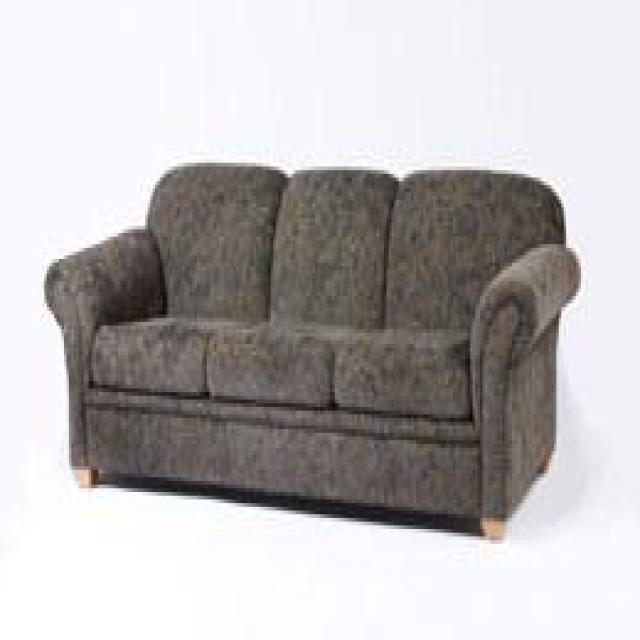sofa: (44, 161, 582, 540)
